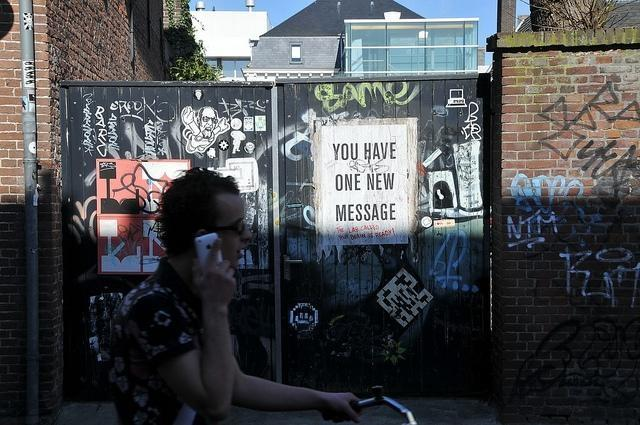bicycle: (359, 392, 414, 420)
